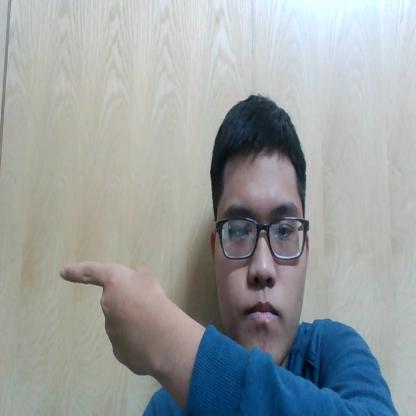right: (52, 248, 180, 397)
